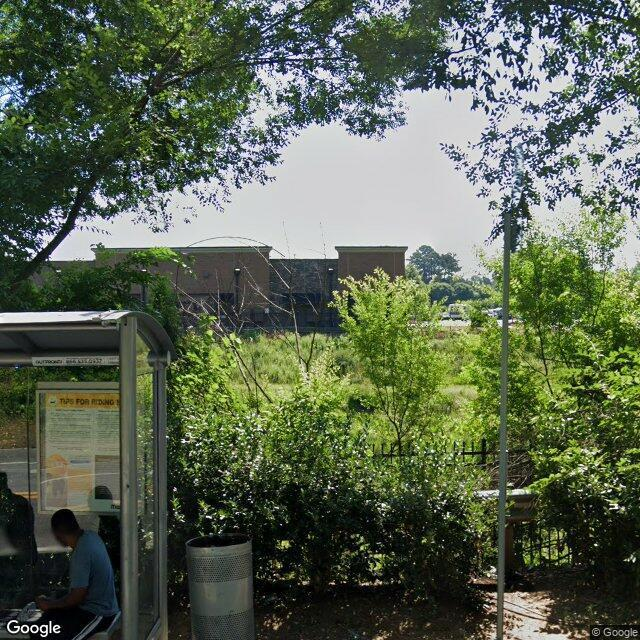shelter: (0, 308, 180, 640)
trash_can: (186, 535, 254, 640)
